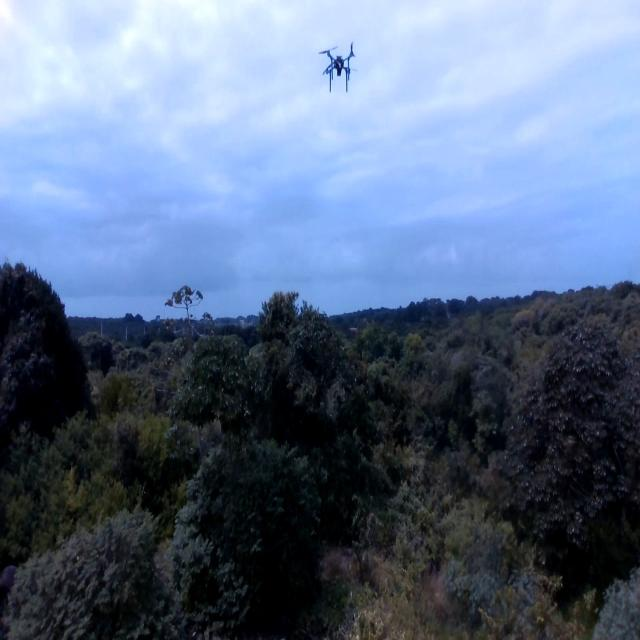-uav-: (313, 30, 362, 101)
